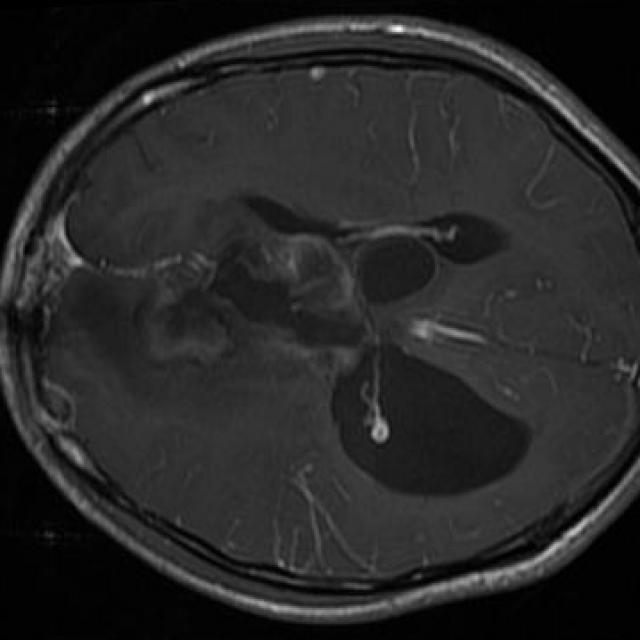glioma: (61, 238, 358, 397)
